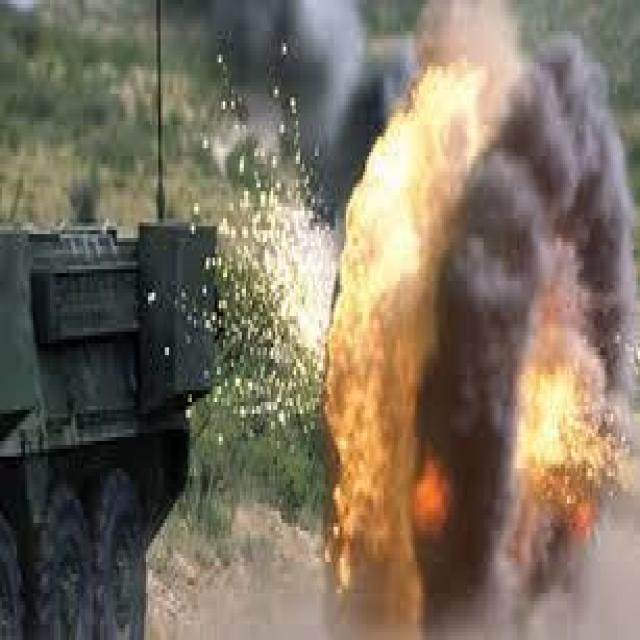Tanks: (18, 195, 228, 621)
